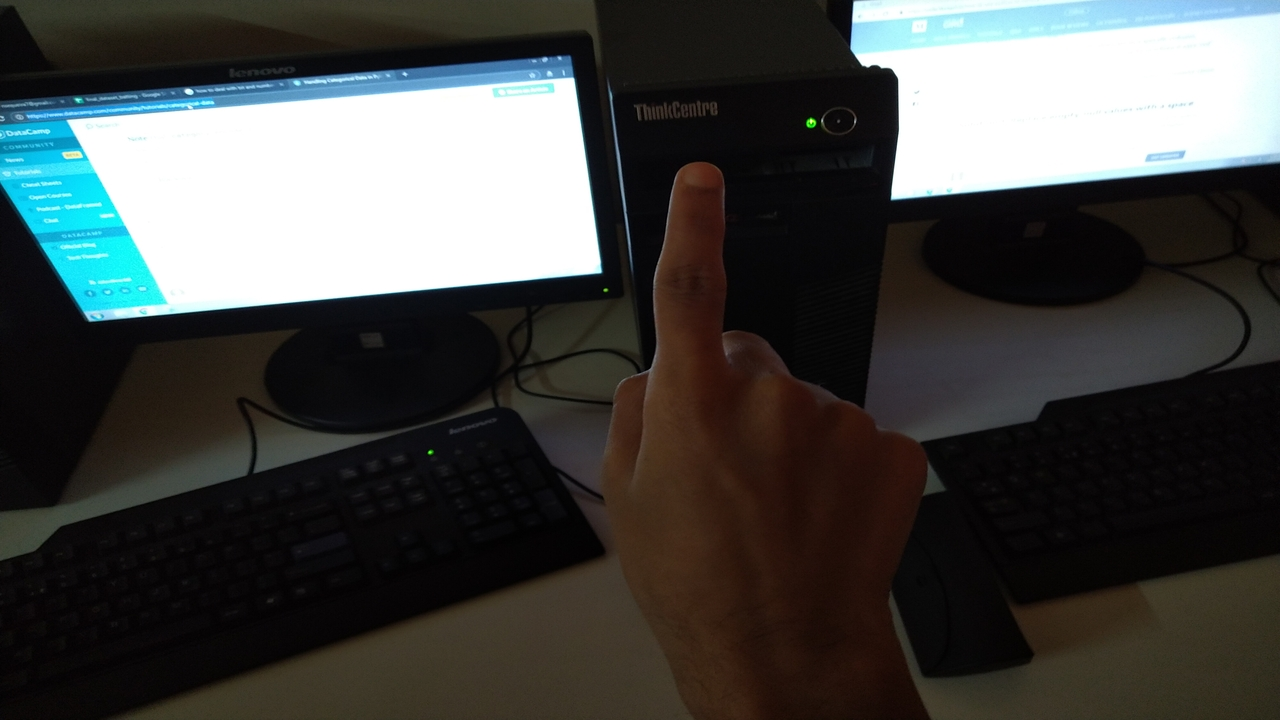fingertip: (666, 156, 726, 208)
